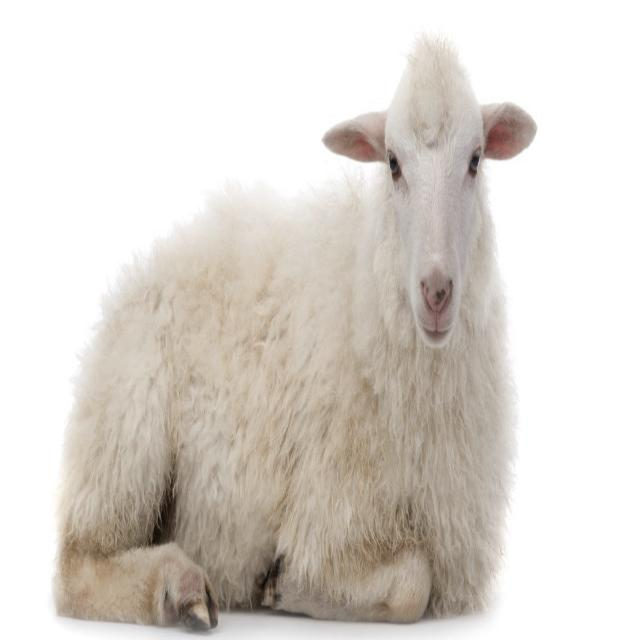sheep: (54, 35, 537, 630)
